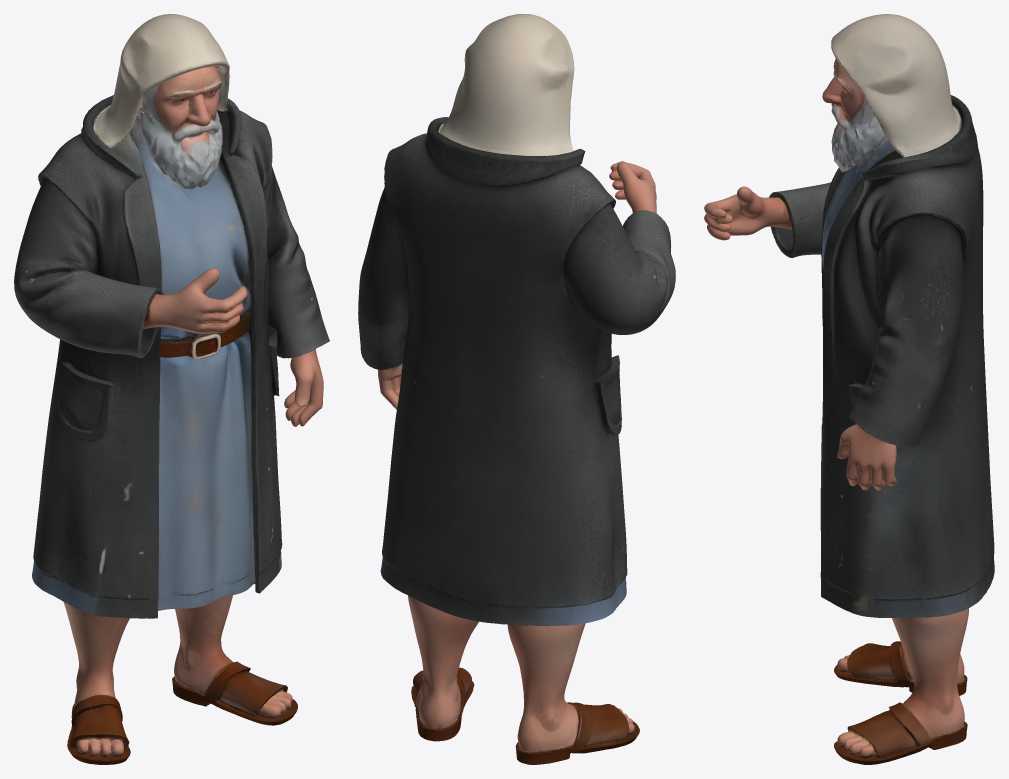
The model's file is aronne.glb.
The picture shows the model from 3 angles, left to right: view 1: azimuth 30°, elevation 25°; view 2: azimuth 150°, elevation 25°; view 3: azimuth 270°, elevation 25°; orthographic projection.
Visible parts, largest first — view 1: model; view 2: model; view 3: model.
Boxes of the visible parts, bbox=[...] form: model: bbox=[14, 14, 329, 764]; model: bbox=[358, 14, 675, 764]; model: bbox=[704, 14, 994, 764].
Size of the model in its own units: 0.8238 by 1.84 by 0.6951.
Materials: 1 (1 with a texture image).
